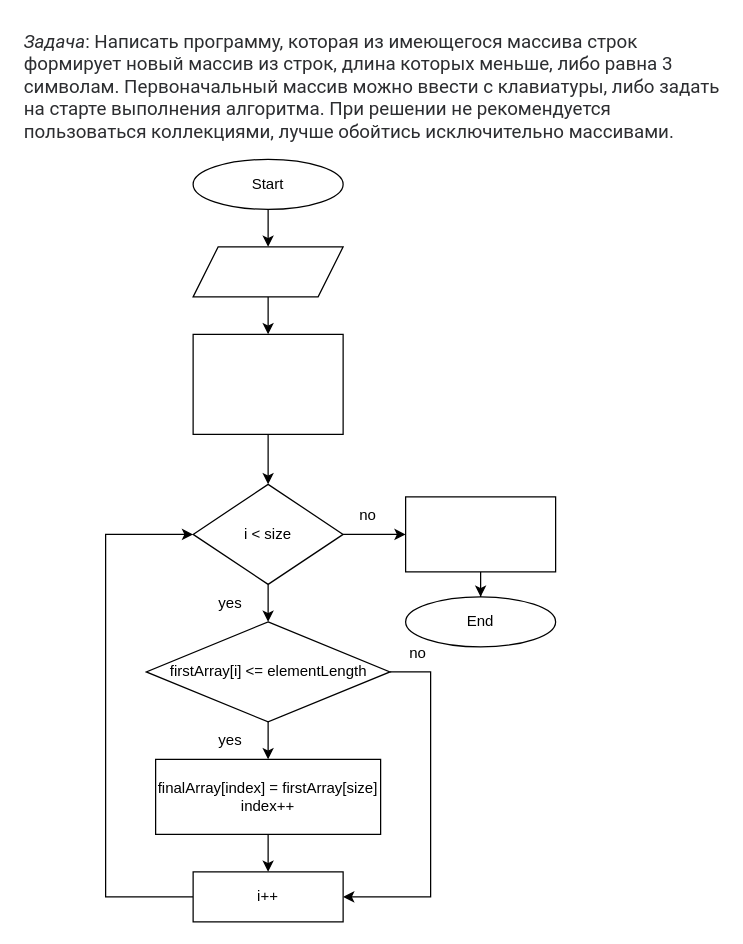
This 743x944 diagram has some shape labels left out. Each missing label, with the centre of its shape:
"finalArray" belongs at [480,534].
"firstArray[size] finalArray[size] i = 0 elementLength = 3 index = 0" belongs at [267,383].
"size" belongs at [267,271].
